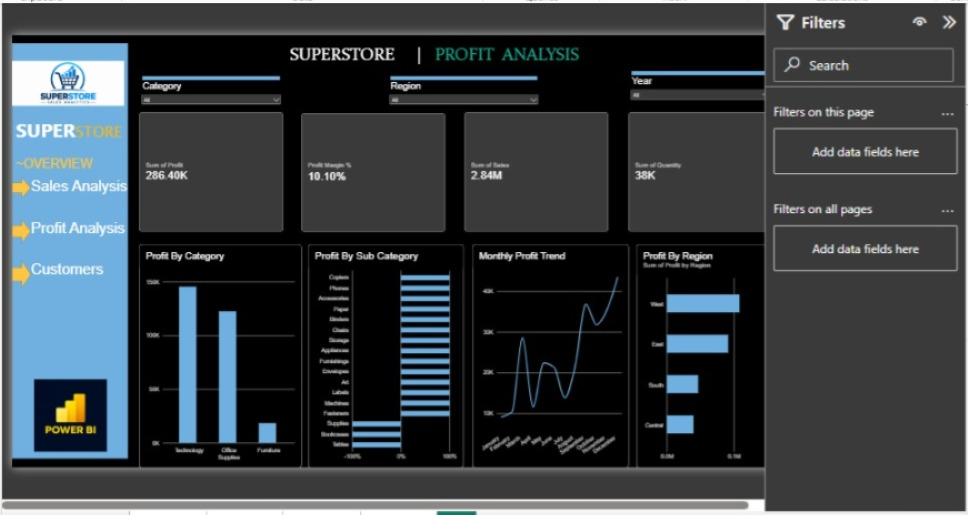

This screenshot's page, from the dashboard's own definition file:
{"tool":"powerbi","page":{"name":"Page 3","canvas":[1920,1080],"ordinal":2},"visuals":[{"type":"shape","box":[0,20.2,289.8,1038.1],"z":0},{"type":"slicer","fields":{"Values":["order id.Category"]},"box":[317.5,103.3,360.3,80.6],"z":1000},{"type":"slicer","fields":{"Values":["order id.Region"]},"box":[937.3,103.3,383,80.6],"z":2000},{"type":"slicer","fields":{"Values":["order id.Order Date.Variation.Date Hierarchy.Year"]},"box":[1539.5,90.7,360.3,80.6],"z":3000},{"type":"cardVisual","fields":{"Data":["Sum(order id.Profit)"]},"box":[317.5,191.5,360.3,299.8],"z":4000},{"type":"cardVisual","fields":{"Data":["order id.Profit Margin %"]},"box":[723.1,194,360.3,297.3],"z":5000},{"type":"cardVisual","fields":{"Data":["Sum(order id.Sales)"]},"box":[1128.8,191.5,360.3,299.8],"z":6000},{"type":"cardVisual","fields":{"Data":["Sum(order id.Quantity)"]},"box":[1539.5,191.5,360.3,299.8],"z":7000},{"type":"clusteredColumnChart","title":"Profit By Category","fields":{"Category":["order id.Category"],"Y":["Sum(order id.Profit)"]},"box":[317.5,521.6,405.7,559.4],"z":8000},{"type":"hundredPercentStackedBarChart","title":"Profit By Sub Category","fields":{"Category":["order id.Sub-Category"],"Y":["Sum(order id.Profit)"]},"box":[740.8,521.6,388,559.4],"z":9000},{"type":"lineChart","title":"Monthly Profit Trend","fields":{"Category":["order id.Order Date.Variation.Date Hierarchy.Month"],"Y":["Sum(order id.Profit)"]},"box":[1149,521.6,390.6,559.4],"z":10000},{"type":"barChart","title":"Profit By Region","fields":{"Category":["order id.Region"],"Y":["Sum(order id.Profit)"]},"box":[1559.7,521.6,360.3,559.4],"z":11000},{"type":"textbox","box":[660.2,22.7,791.2,68],"z":12000},{"type":"textbox","box":[10.1,201.6,279.7,80.6],"z":13000},{"type":"textbox","box":[10.1,302.4,279.7,52.9],"z":14000},{"type":"image","box":[0,58,279.7,126],"z":15000},{"type":"textbox","box":[47.9,355.3,241.9,73.1],"z":16000},{"type":"shape","box":[0,355.3,47.9,52.9],"z":17000},{"type":"shape","box":[0,461.1,47.9,60.5],"z":18000},{"type":"textbox","box":[47.9,461.1,241.9,60.5],"z":19000},{"type":"shape","box":[0,561.9,47.9,70.6],"z":20000},{"type":"textbox","box":[47.9,561.9,231.8,95.7],"z":21000},{"type":"image","box":[0,859.2,292.3,181.4],"z":22000}]}

Visuals, with their boxes on the page's 1920x1080 design canvas (x1, y1, x2, y2). These are canvas units, not pixel positions in the 968x515 screenshot, which may show the page scaled, cropped or inside an application window:
shape: (0,20,290,1058)
slicer - order id.Category: (318,103,678,184)
slicer - order id.Region: (937,103,1320,184)
slicer - order id.Order Date.Variation.Date Hierarchy.Year: (1540,91,1900,171)
cardVisual - Sum(order id.Profit): (318,192,678,491)
cardVisual - order id.Profit Margin %: (723,194,1083,491)
cardVisual - Sum(order id.Sales): (1129,192,1489,491)
cardVisual - Sum(order id.Quantity): (1540,192,1900,491)
"Profit By Category" clusteredColumnChart: (318,522,723,1081)
"Profit By Sub Category" hundredPercentStackedBarChart: (741,522,1129,1081)
"Monthly Profit Trend" lineChart: (1149,522,1540,1081)
"Profit By Region" barChart: (1560,522,1920,1081)
textbox: (660,23,1451,91)
textbox: (10,202,290,282)
textbox: (10,302,290,355)
image: (0,58,280,184)
textbox: (48,355,290,428)
shape: (0,355,48,408)
shape: (0,461,48,522)
textbox: (48,461,290,522)
shape: (0,562,48,632)
textbox: (48,562,280,658)
image: (0,859,292,1041)
